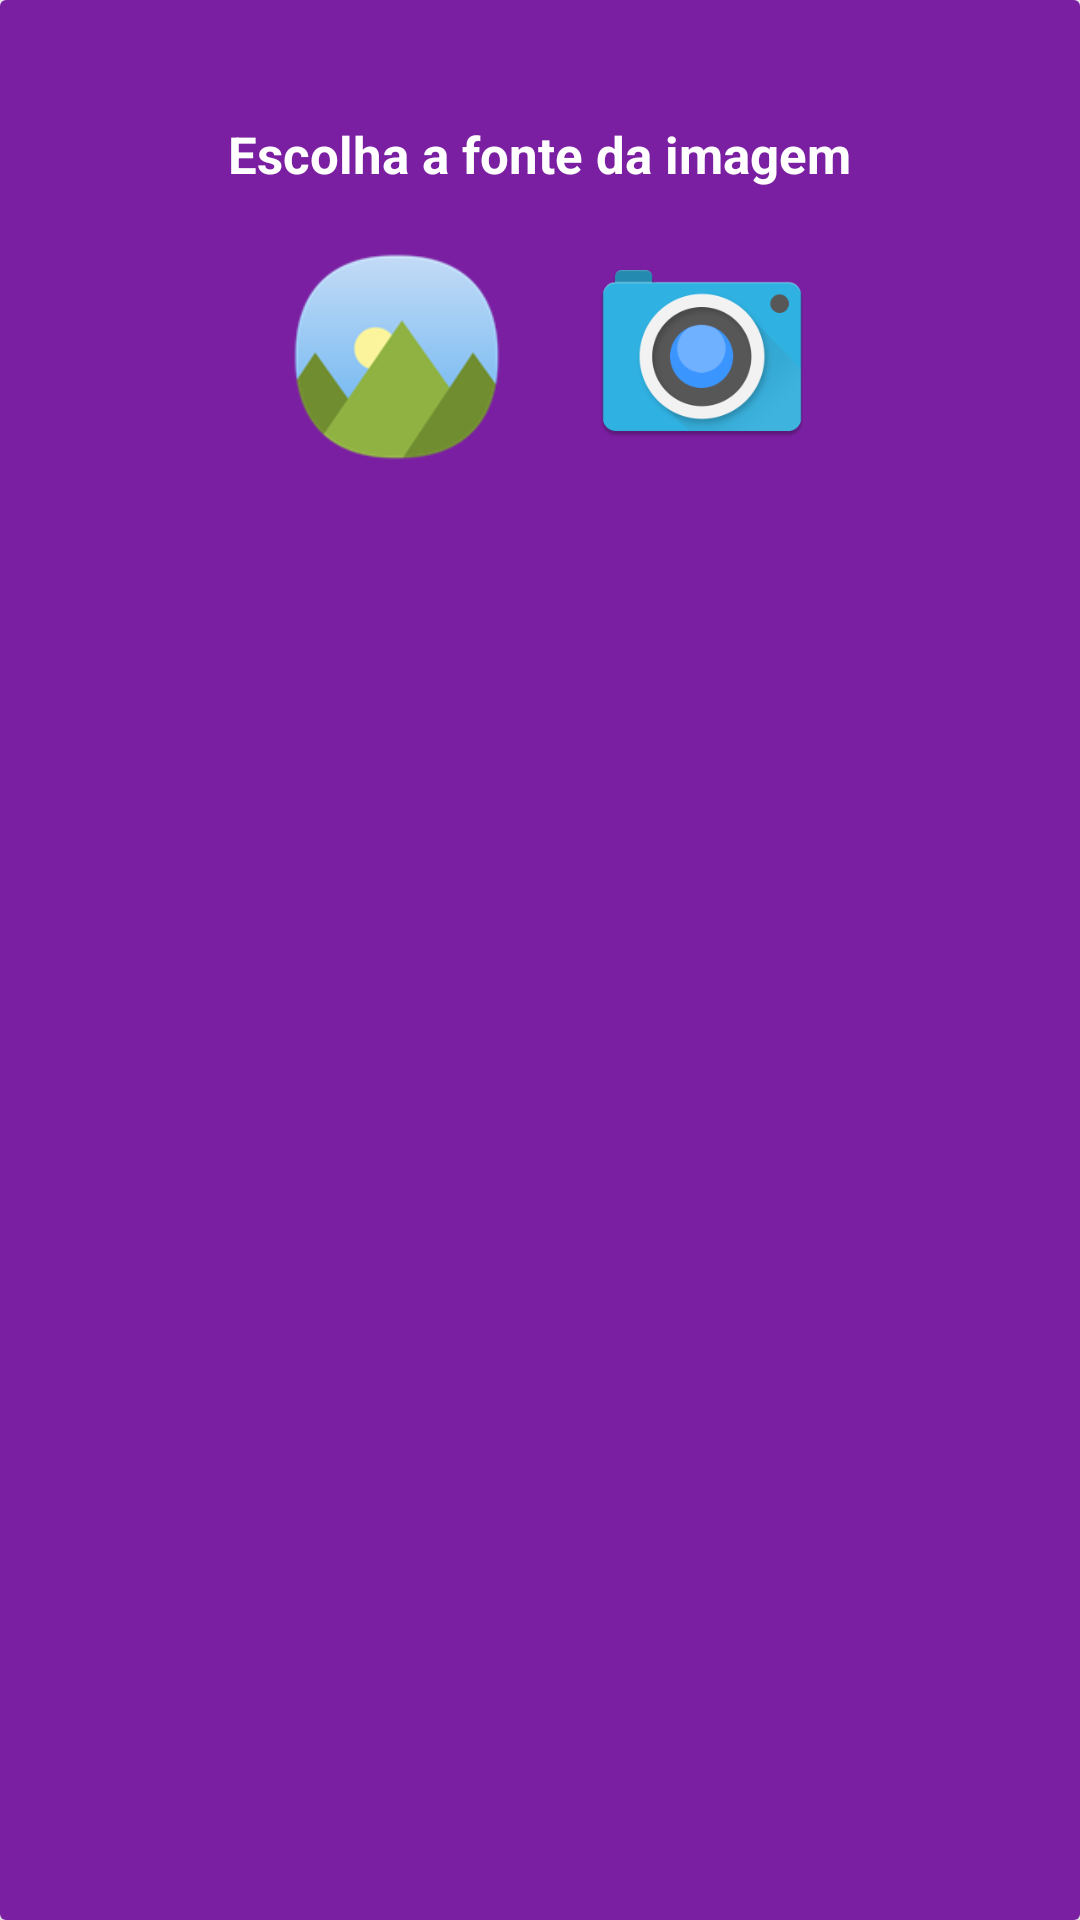

Named icons in this screenshot (1080x1920) and their bounding boxes, (x1, y1, x2, y2):
camera: (602, 270, 802, 434)
galery an: (294, 254, 499, 459)
